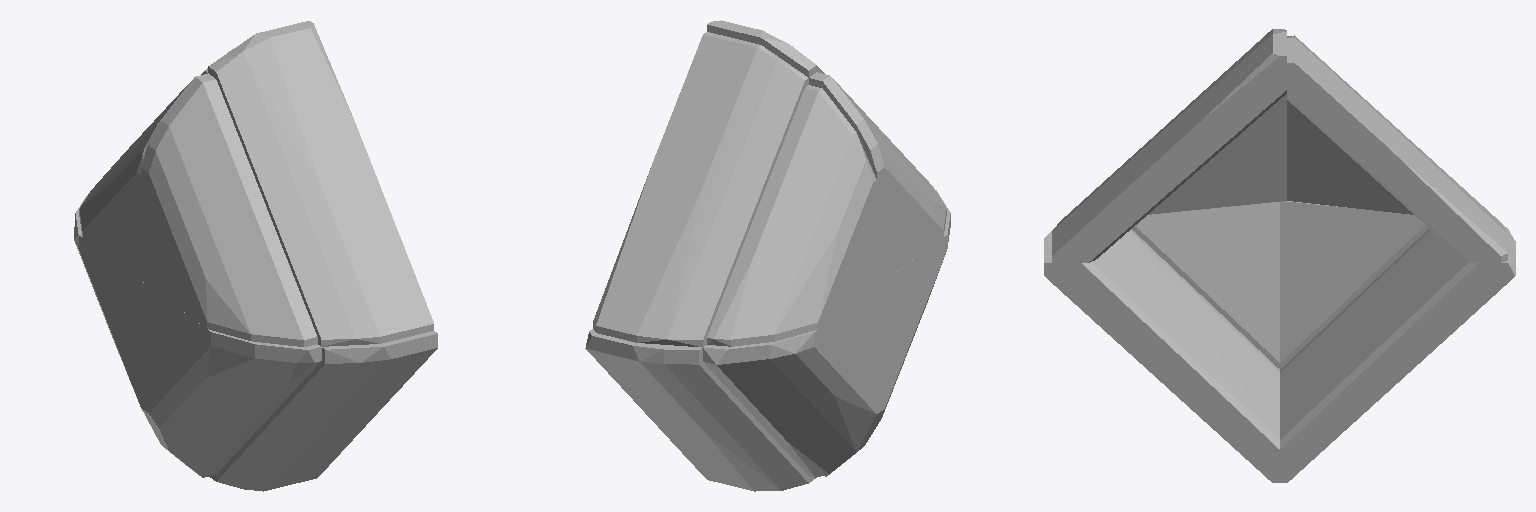
URDF robot description (root):
<robot name="root">
  <link name="link_SqrBowl_convex_piece_0">
    <inertial>
      <origin rpy="0 0 0" xyz="0 0 0"/>
      <mass value="5.15E-07"/>
      <inertia ixx="6.48E-11" ixy="1.70E-11" ixz="1.54E-11" iyy="4.60E-11" iyz="1.53E-11" izz="4.99E-11"/>
    </inertial>
    <visual>
      <origin rpy="0 0 0" xyz="0 0 0"/>
      <geometry>
        <mesh filename="SqrBowl_convex_piece_0.obj" scale="1.0000E+00"/>
      </geometry>
      <material name="">
        <color rgba="7.50E-01 7.50E-01 7.50E-01 1"/>
      </material>
    </visual>
    <collision>
      <origin rpy="0 0 0" xyz="0 0 0"/>
      <geometry>
        <mesh filename="SqrBowl_convex_piece_0.obj" scale="1.0000E+00"/>
      </geometry>
    </collision>
  </link>
  <link name="link_SqrBowl_convex_piece_1">
    <inertial>
      <origin rpy="0 0 0" xyz="0 0 0"/>
      <mass value="6.23E-07"/>
      <inertia ixx="1.71E-10" ixy="-2.29E-11" ixz="-2.10E-11" iyy="9.28E-11" iyz="4.12E-11" izz="1.03E-10"/>
    </inertial>
    <visual>
      <origin rpy="0 0 0" xyz="0 0 0"/>
      <geometry>
        <mesh filename="SqrBowl_convex_piece_1.obj" scale="1.0000E+00"/>
      </geometry>
      <material name="">
        <color rgba="7.50E-01 7.50E-01 7.50E-01 1"/>
      </material>
    </visual>
    <collision>
      <origin rpy="0 0 0" xyz="0 0 0"/>
      <geometry>
        <mesh filename="SqrBowl_convex_piece_1.obj" scale="1.0000E+00"/>
      </geometry>
    </collision>
  </link>
  <joint name="link_SqrBowl_convex_piece_1_joint" type="fixed">
    <origin rpy="0 0 0" xyz="0 0 0"/>
    <parent link="link_SqrBowl_convex_piece_0"/>
    <child link="link_SqrBowl_convex_piece_1"/>
  </joint>
  <link name="link_SqrBowl_convex_piece_2">
    <inertial>
      <origin rpy="0 0 0" xyz="0 0 0"/>
      <mass value="5.15E-07"/>
      <inertia ixx="6.47E-11" ixy="-1.71E-11" ixz="1.53E-11" iyy="4.57E-11" iyz="-1.53E-11" izz="5.01E-11"/>
    </inertial>
    <visual>
      <origin rpy="0 0 0" xyz="0 0 0"/>
      <geometry>
        <mesh filename="SqrBowl_convex_piece_2.obj" scale="1.0000E+00"/>
      </geometry>
      <material name="">
        <color rgba="7.50E-01 7.50E-01 7.50E-01 1"/>
      </material>
    </visual>
    <collision>
      <origin rpy="0 0 0" xyz="0 0 0"/>
      <geometry>
        <mesh filename="SqrBowl_convex_piece_2.obj" scale="1.0000E+00"/>
      </geometry>
    </collision>
  </link>
  <joint name="link_SqrBowl_convex_piece_2_joint" type="fixed">
    <origin rpy="0 0 0" xyz="0 0 0"/>
    <parent link="link_SqrBowl_convex_piece_1"/>
    <child link="link_SqrBowl_convex_piece_2"/>
  </joint>
  <link name="link_SqrBowl_convex_piece_3">
    <inertial>
      <origin rpy="0 0 0" xyz="0 0 0"/>
      <mass value="6.23E-07"/>
      <inertia ixx="1.71E-10" ixy="2.29E-11" ixz="-2.10E-11" iyy="9.26E-11" iyz="-4.12E-11" izz="1.03E-10"/>
    </inertial>
    <visual>
      <origin rpy="0 0 0" xyz="0 0 0"/>
      <geometry>
        <mesh filename="SqrBowl_convex_piece_3.obj" scale="1.0000E+00"/>
      </geometry>
      <material name="">
        <color rgba="7.50E-01 7.50E-01 7.50E-01 1"/>
      </material>
    </visual>
    <collision>
      <origin rpy="0 0 0" xyz="0 0 0"/>
      <geometry>
        <mesh filename="SqrBowl_convex_piece_3.obj" scale="1.0000E+00"/>
      </geometry>
    </collision>
  </link>
  <joint name="link_SqrBowl_convex_piece_3_joint" type="fixed">
    <origin rpy="0 0 0" xyz="0 0 0"/>
    <parent link="link_SqrBowl_convex_piece_2"/>
    <child link="link_SqrBowl_convex_piece_3"/>
  </joint>
  <link name="link_SqrBowl_convex_piece_4">
    <inertial>
      <origin rpy="0 0 0" xyz="0 0 0"/>
      <mass value="4.79E-07"/>
      <inertia ixx="6.06E-11" ixy="1.36E-11" ixz="-1.70E-11" iyy="4.89E-11" iyz="-1.51E-11" izz="4.04E-11"/>
    </inertial>
    <visual>
      <origin rpy="0 0 0" xyz="0 0 0"/>
      <geometry>
        <mesh filename="SqrBowl_convex_piece_4.obj" scale="1.0000E+00"/>
      </geometry>
      <material name="">
        <color rgba="7.50E-01 7.50E-01 7.50E-01 1"/>
      </material>
    </visual>
    <collision>
      <origin rpy="0 0 0" xyz="0 0 0"/>
      <geometry>
        <mesh filename="SqrBowl_convex_piece_4.obj" scale="1.0000E+00"/>
      </geometry>
    </collision>
  </link>
  <joint name="link_SqrBowl_convex_piece_4_joint" type="fixed">
    <origin rpy="0 0 0" xyz="0 0 0"/>
    <parent link="link_SqrBowl_convex_piece_3"/>
    <child link="link_SqrBowl_convex_piece_4"/>
  </joint>
  <link name="link_SqrBowl_convex_piece_5">
    <inertial>
      <origin rpy="0 0 0" xyz="0 0 0"/>
      <mass value="6.00E-07"/>
      <inertia ixx="1.63E-10" ixy="-1.96E-11" ixz="2.28E-11" iyy="1.02E-10" iyz="-4.09E-11" izz="8.42E-11"/>
    </inertial>
    <visual>
      <origin rpy="0 0 0" xyz="0 0 0"/>
      <geometry>
        <mesh filename="SqrBowl_convex_piece_5.obj" scale="1.0000E+00"/>
      </geometry>
      <material name="">
        <color rgba="7.50E-01 7.50E-01 7.50E-01 1"/>
      </material>
    </visual>
    <collision>
      <origin rpy="0 0 0" xyz="0 0 0"/>
      <geometry>
        <mesh filename="SqrBowl_convex_piece_5.obj" scale="1.0000E+00"/>
      </geometry>
    </collision>
  </link>
  <joint name="link_SqrBowl_convex_piece_5_joint" type="fixed">
    <origin rpy="0 0 0" xyz="0 0 0"/>
    <parent link="link_SqrBowl_convex_piece_4"/>
    <child link="link_SqrBowl_convex_piece_5"/>
  </joint>
  <link name="link_SqrBowl_convex_piece_6">
    <inertial>
      <origin rpy="0 0 0" xyz="0 0 0"/>
      <mass value="4.09E-07"/>
      <inertia ixx="5.18E-11" ixy="-1.34E-11" ixz="-1.35E-11" iyy="3.80E-11" iyz="1.50E-11" izz="3.78E-11"/>
    </inertial>
    <visual>
      <origin rpy="0 0 0" xyz="0 0 0"/>
      <geometry>
        <mesh filename="SqrBowl_convex_piece_6.obj" scale="1.0000E+00"/>
      </geometry>
      <material name="">
        <color rgba="7.50E-01 7.50E-01 7.50E-01 1"/>
      </material>
    </visual>
    <collision>
      <origin rpy="0 0 0" xyz="0 0 0"/>
      <geometry>
        <mesh filename="SqrBowl_convex_piece_6.obj" scale="1.0000E+00"/>
      </geometry>
    </collision>
  </link>
  <joint name="link_SqrBowl_convex_piece_6_joint" type="fixed">
    <origin rpy="0 0 0" xyz="0 0 0"/>
    <parent link="link_SqrBowl_convex_piece_5"/>
    <child link="link_SqrBowl_convex_piece_6"/>
  </joint>
  <link name="link_SqrBowl_convex_piece_7">
    <inertial>
      <origin rpy="0 0 0" xyz="0 0 0"/>
      <mass value="5.33E-07"/>
      <inertia ixx="1.42E-10" ixy="1.89E-11" ixz="1.90E-11" iyy="8.15E-11" iyz="3.95E-11" izz="8.11E-11"/>
    </inertial>
    <visual>
      <origin rpy="0 0 0" xyz="0 0 0"/>
      <geometry>
        <mesh filename="SqrBowl_convex_piece_7.obj" scale="1.0000E+00"/>
      </geometry>
      <material name="">
        <color rgba="7.50E-01 7.50E-01 7.50E-01 1"/>
      </material>
    </visual>
    <collision>
      <origin rpy="0 0 0" xyz="0 0 0"/>
      <geometry>
        <mesh filename="SqrBowl_convex_piece_7.obj" scale="1.0000E+00"/>
      </geometry>
    </collision>
  </link>
  <joint name="link_SqrBowl_convex_piece_7_joint" type="fixed">
    <origin rpy="0 0 0" xyz="0 0 0"/>
    <parent link="link_SqrBowl_convex_piece_6"/>
    <child link="link_SqrBowl_convex_piece_7"/>
  </joint>
</robot>

--- Render facts (derived) ---
3 views of the same robot in one strip: view 1: azimuth 30°, elevation 25°; view 2: azimuth 150°, elevation 25°; view 3: azimuth 270°, elevation 25° (orthographic).
Robot: root — 8 links, 7 joints (7 fixed); root link link_SqrBowl_convex_piece_0; default pose: all joints at 0.
Links seen in each view (by area): view 1: link_SqrBowl_convex_piece_5, link_SqrBowl_convex_piece_4, link_SqrBowl_convex_piece_0, link_SqrBowl_convex_piece_1, link_SqrBowl_convex_piece_6, link_SqrBowl_convex_piece_2; view 2: link_SqrBowl_convex_piece_7, link_SqrBowl_convex_piece_6, link_SqrBowl_convex_piece_2, link_SqrBowl_convex_piece_3, link_SqrBowl_convex_piece_4, link_SqrBowl_convex_piece_0, link_SqrBowl_convex_piece_5; view 3: link_SqrBowl_convex_piece_3, link_SqrBowl_convex_piece_1, link_SqrBowl_convex_piece_5, link_SqrBowl_convex_piece_7, link_SqrBowl_convex_piece_2, link_SqrBowl_convex_piece_0, link_SqrBowl_convex_piece_4, link_SqrBowl_convex_piece_6.
Link boxes in pixels (x1,y1,x2,y2): link_SqrBowl_convex_piece_5: (208, 21, 433, 346); link_SqrBowl_convex_piece_4: (141, 73, 317, 346); link_SqrBowl_convex_piece_0: (145, 284, 321, 477); link_SqrBowl_convex_piece_1: (212, 331, 437, 491); link_SqrBowl_convex_piece_6: (79, 82, 190, 279); link_SqrBowl_convex_piece_2: (74, 195, 186, 465); link_SqrBowl_convex_piece_7: (593, 32, 808, 347); link_SqrBowl_convex_piece_6: (707, 85, 876, 346); link_SqrBowl_convex_piece_2: (703, 284, 880, 477); link_SqrBowl_convex_piece_3: (585, 329, 812, 491); link_SqrBowl_convex_piece_4: (809, 72, 946, 285); link_SqrBowl_convex_piece_0: (825, 190, 950, 476); link_SqrBowl_convex_piece_5: (707, 20, 824, 77); link_SqrBowl_convex_piece_3: (1280, 224, 1515, 482); link_SqrBowl_convex_piece_1: (1044, 229, 1279, 482); link_SqrBowl_convex_piece_5: (1052, 29, 1286, 262); link_SqrBowl_convex_piece_7: (1287, 35, 1507, 262); link_SqrBowl_convex_piece_2: (1280, 201, 1428, 368); link_SqrBowl_convex_piece_0: (1132, 202, 1279, 368); link_SqrBowl_convex_piece_4: (1148, 94, 1286, 214); link_SqrBowl_convex_piece_6: (1287, 100, 1413, 214).
Size in the robot's own frame: 0.0179 by 0.0457 by 0.0457 metres.
Meshes: 8 distinct files referenced, 8 mesh visuals loaded (8 OBJ).